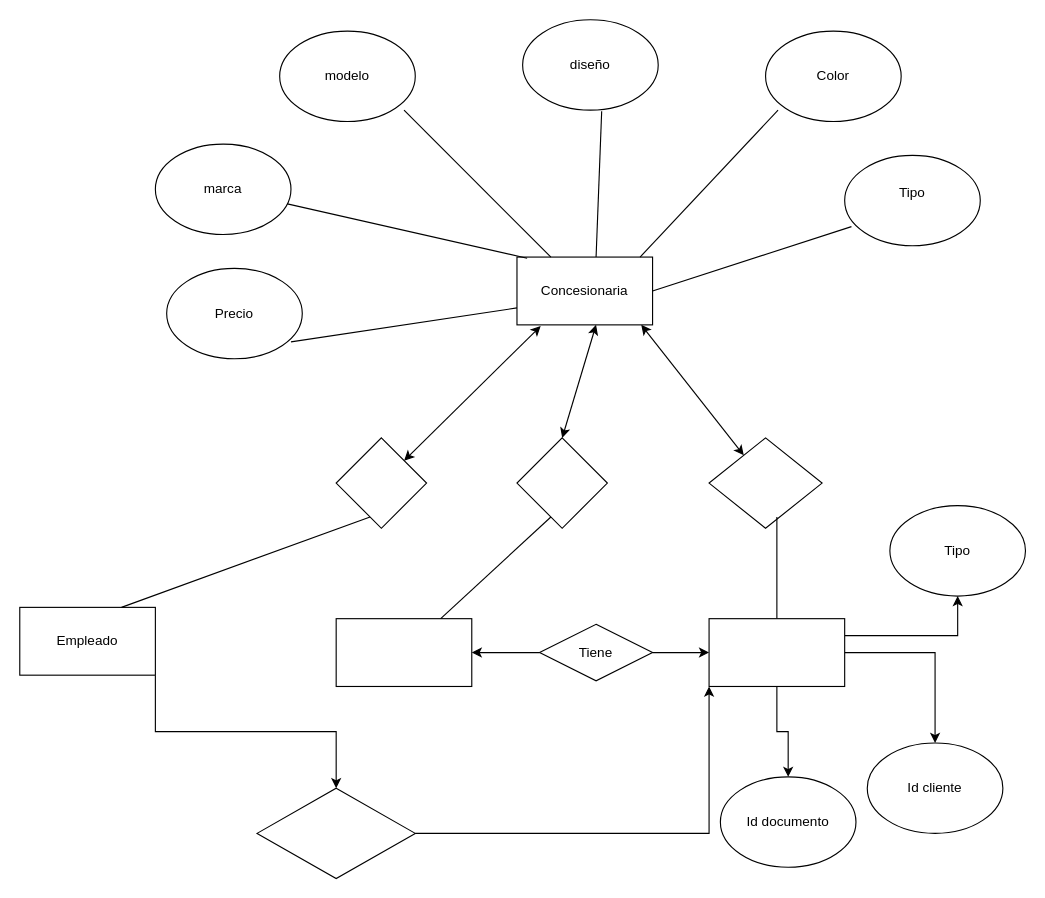
This 1045x898 diagram has some shape labels left out. The box of each missing label's shape, as (x1, y1, x2, y2) in pixels:
Administrador: (708, 437, 822, 528)
Cliente: (335, 618, 472, 686)
Compra: (516, 437, 607, 528)
Documentos: (708, 618, 845, 686)
Solicita: (256, 787, 415, 879)
venta: (335, 437, 427, 528)
